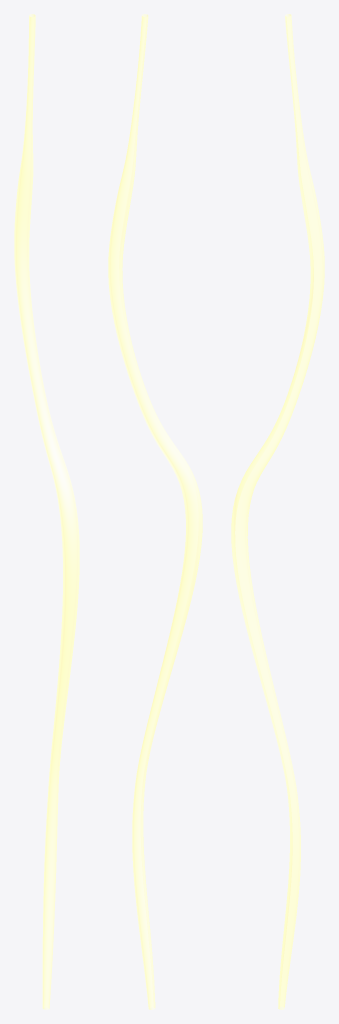
Rendered from strand_a_cairn.glb.
The picture shows the model from 3 angles, left to right: view 1: azimuth 90°, elevation 25°; view 2: azimuth 150°, elevation 25°; view 3: azimuth 330°, elevation 25°; orthographic projection.
Bounding box in the file's own units: 0.5733 × 8 × 0.479.
